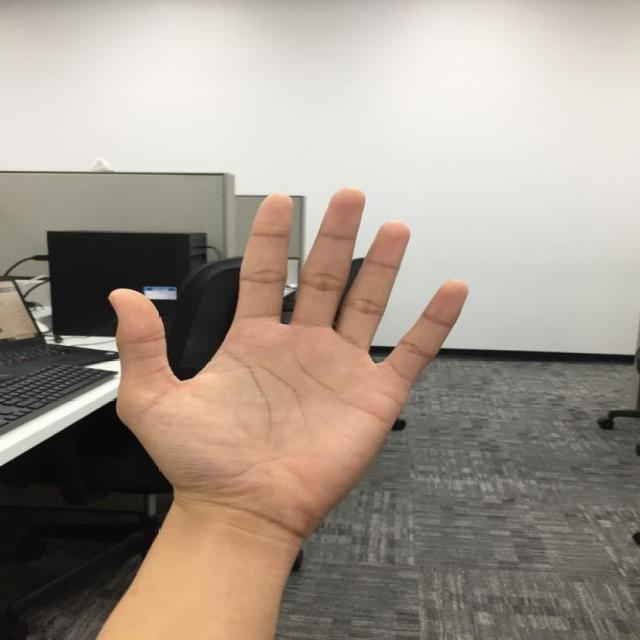hand: (104, 186, 474, 528)
